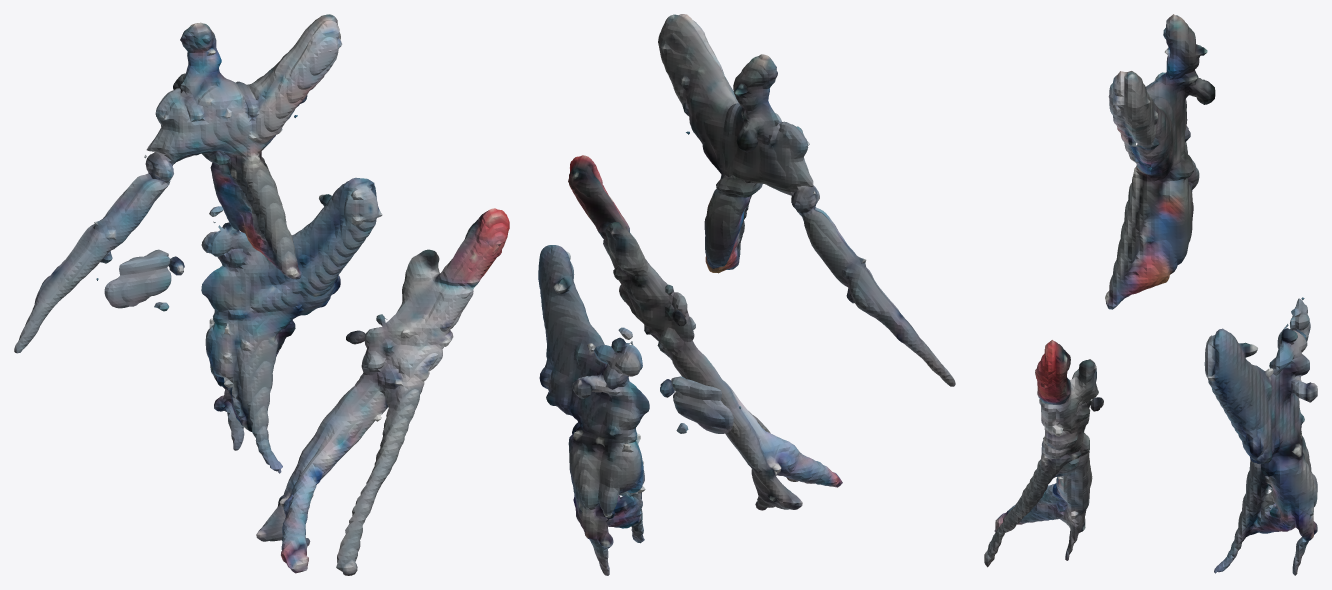
File: 000020_planes_transport_travel.glb
3 renders of one model, left to right at view 1: azimuth 30°, elevation 25°; view 2: azimuth 150°, elevation 25°; view 3: azimuth 270°, elevation 25°, orthographic. The views are drawn at different scales.
Parts seen in each view (by area): view 1: world; view 2: world; view 3: world.
Boxes of the visible parts, x1,y1,x2,y2 form: world: (14, 14, 509, 575); world: (538, 14, 955, 575); world: (984, 14, 1317, 575).
Bounding box in the file's own units: 0.937 × 1.03 × 0.5997.
